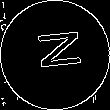N_W: (28, 33, 82, 77)
